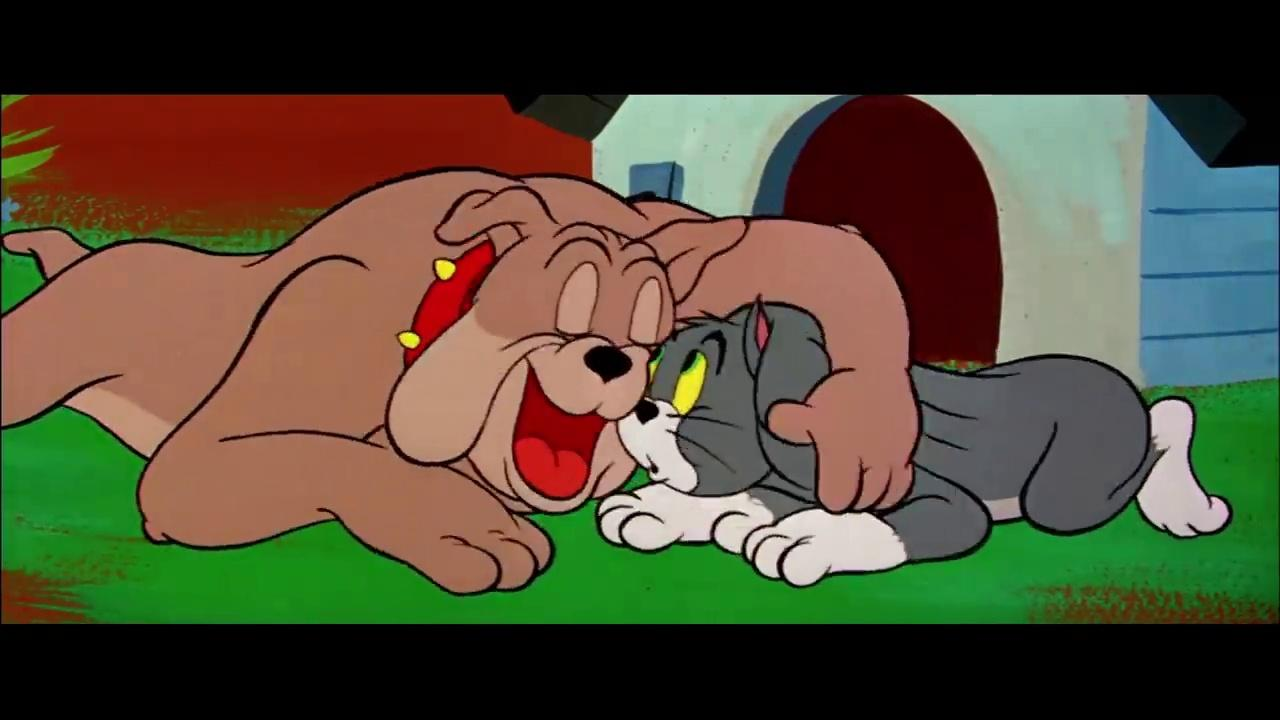Tom: (596, 293, 1236, 590)
